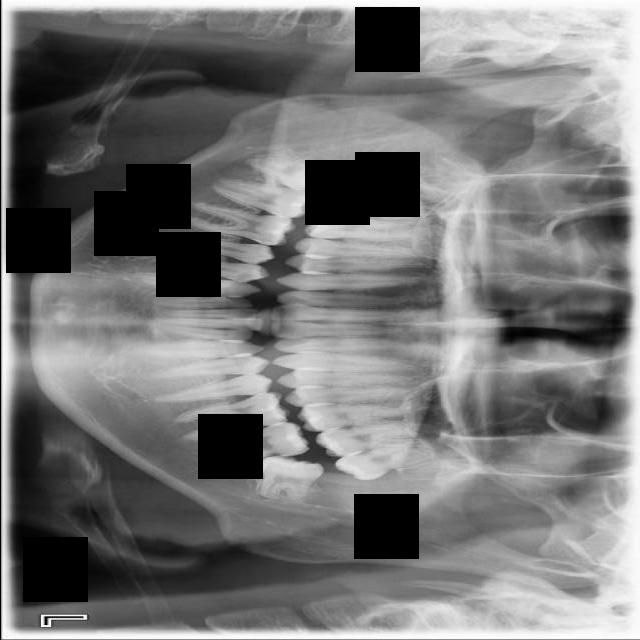3M ESPE Implant: (351, 157, 461, 214)
52: (265, 451, 285, 457)
73: (144, 541, 160, 545)
BioHorizons Implant: (313, 418, 441, 461)
BioLife Implant: (332, 440, 439, 486)
Biomet 3i Implant: (258, 454, 324, 502)
Blue Sky Bio Implant: (198, 418, 310, 467)
Caries: (321, 185, 452, 228)
Implant: (212, 178, 317, 221)
Keystone Dental Implant: (242, 133, 337, 203)
